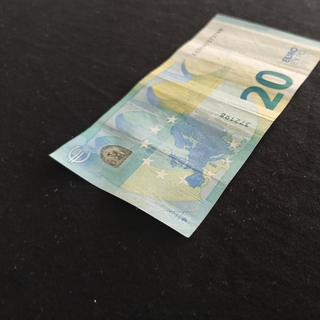20EUROBack: (49, 13, 320, 238)
